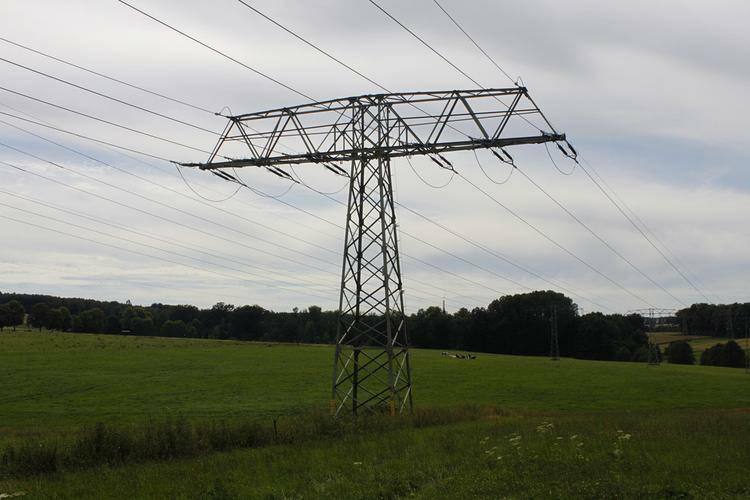power_tower: (179, 79, 571, 418)
